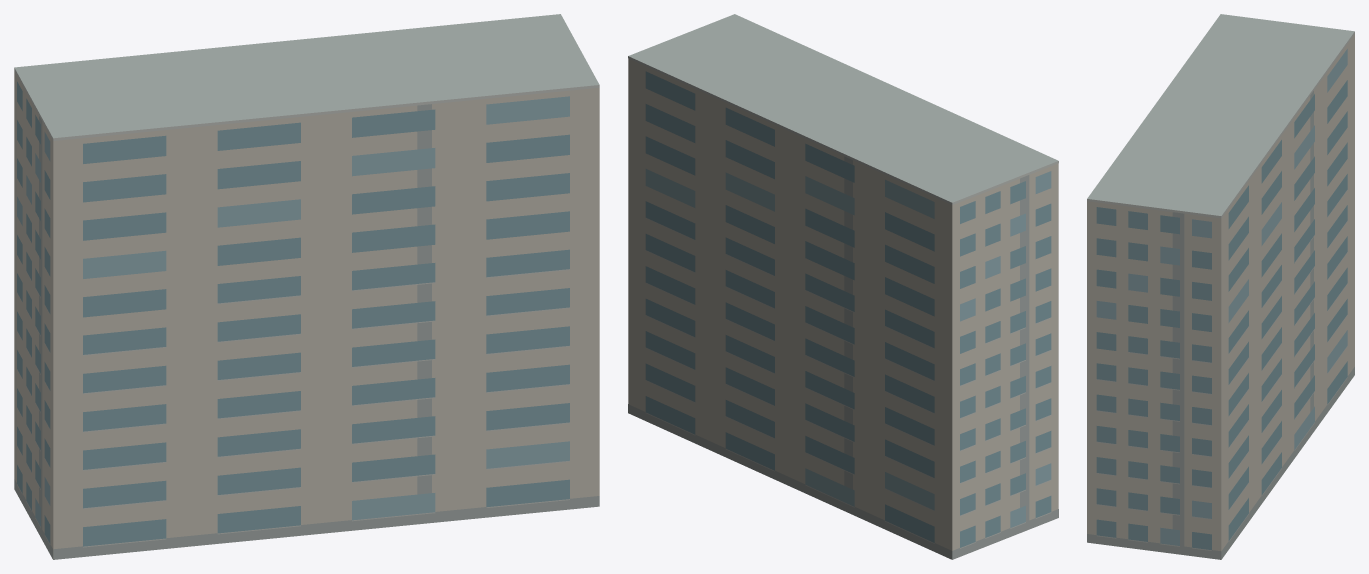
File: residential-791d4a42-f3a4-497a-ae60-dd03eed48d4d.glb
3 renders of one model, left to right at view 1: azimuth 30°, elevation 25°; view 2: azimuth 150°, elevation 25°; view 3: azimuth 270°, elevation 25°, orthographic. The views are drawn at different scales.
Parts seen in each view (by area): view 1: residential-791d4a42-f3a4-497a-ae60-dd03eed48d4d.tmp; view 2: residential-791d4a42-f3a4-497a-ae60-dd03eed48d4d.tmp; view 3: residential-791d4a42-f3a4-497a-ae60-dd03eed48d4d.tmp.
Boxes of the visible parts, bbox=[...] form: residential-791d4a42-f3a4-497a-ae60-dd03eed48d4d.tmp: bbox=[14, 14, 599, 559]; residential-791d4a42-f3a4-497a-ae60-dd03eed48d4d.tmp: bbox=[628, 14, 1058, 559]; residential-791d4a42-f3a4-497a-ae60-dd03eed48d4d.tmp: bbox=[1087, 14, 1354, 559].
Size of the model in its own units: 46.67 by 37 by 26.14.
